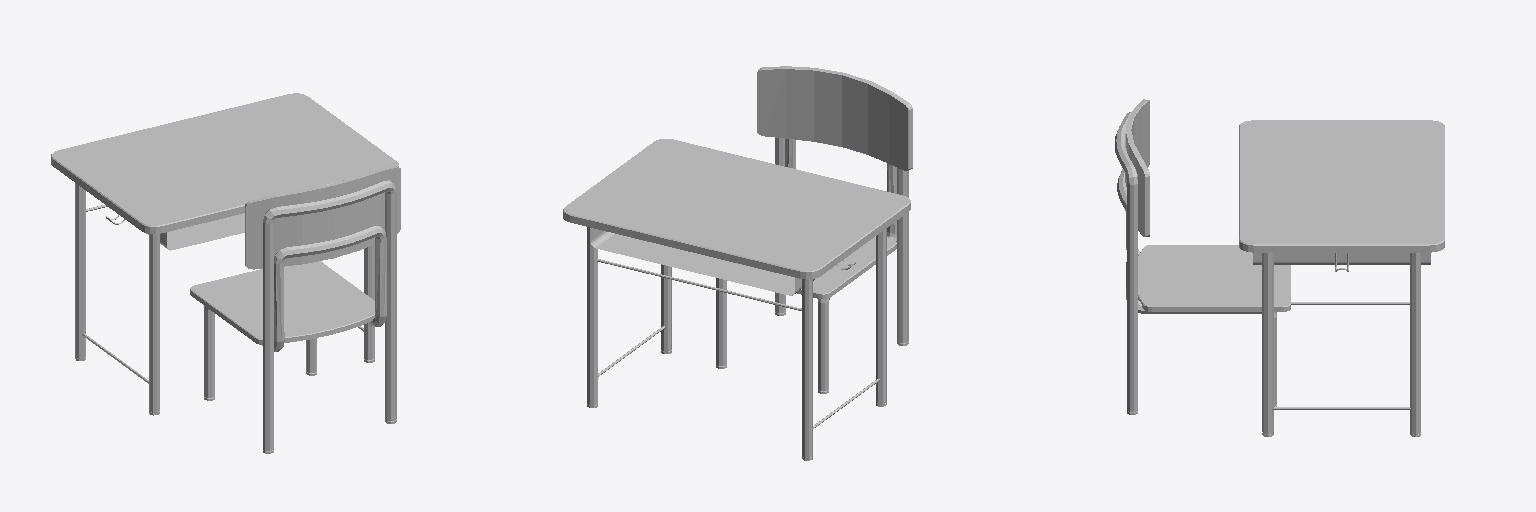
File: School_desk.obj
3 renders of one model, left to right at view 1: azimuth 30°, elevation 25°; view 2: azimuth 150°, elevation 25°; view 3: azimuth 270°, elevation 25°, orthographic.
Visible parts, largest first — view 1: Desk_e, Chair_e; view 2: Desk_e, Chair_e; view 3: Desk_e, Chair_e.
Part boxes in pixels (left/top/right/bottom): Desk_e: left=51, top=93, right=398, bottom=415; Chair_e: left=190, top=166, right=400, bottom=453; Desk_e: left=563, top=139, right=910, bottom=460; Chair_e: left=716, top=66, right=912, bottom=393; Desk_e: left=1239, top=120, right=1444, bottom=436; Chair_e: left=1115, top=99, right=1290, bottom=414.
Bounding box in the file's own units: 100 × 94.66 × 112.